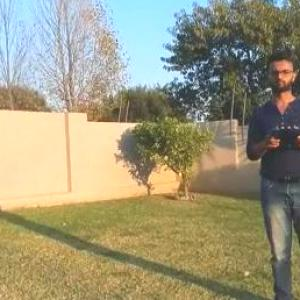follow: (243, 45, 299, 299)
